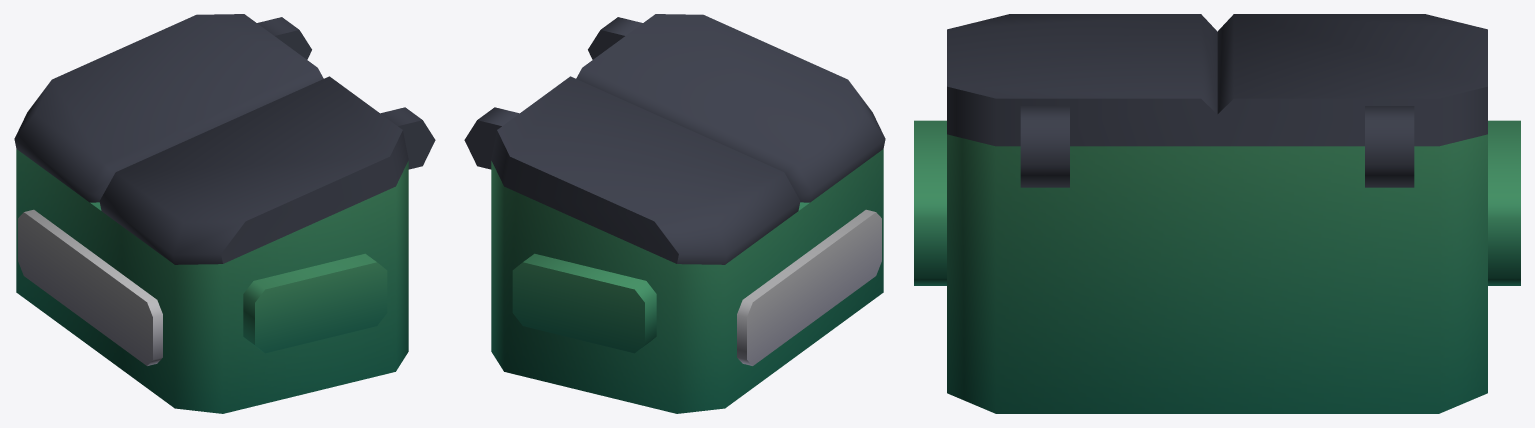
The model's file is waste_bin.glb.
The picture shows the model from 3 angles, left to right: view 1: azimuth 30°, elevation 25°; view 2: azimuth 150°, elevation 25°; view 3: azimuth 270°, elevation 25°; orthographic projection. The views are drawn at different scales.
Visible parts, largest first — view 1: dumpster, lid-right, lid-left; view 2: dumpster, lid-left, lid-right; view 3: dumpster, lid-right, lid-left.
Part boxes in pixels (x1,y1,x2,y2): dumpster: (16, 17, 435, 413); lid-right: (99, 76, 408, 264); lid-left: (14, 14, 323, 202); dumpster: (464, 17, 883, 413); lid-left: (491, 76, 800, 264); lid-right: (576, 14, 885, 202); dumpster: (914, 106, 1520, 413); lid-right: (947, 14, 1217, 146); lid-left: (1217, 14, 1487, 146).
Size of the model in its own units: 0.275 by 0.2094 by 0.37.
1 material, 1 textured.
